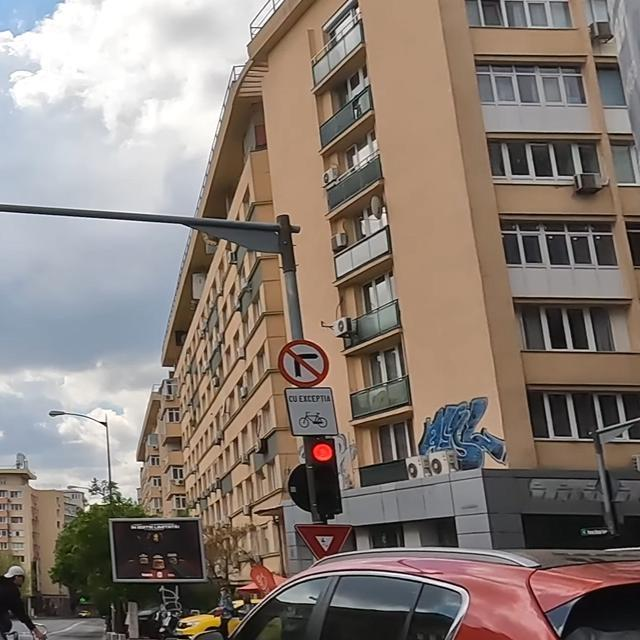prio_give_way: (295, 524, 352, 557)
